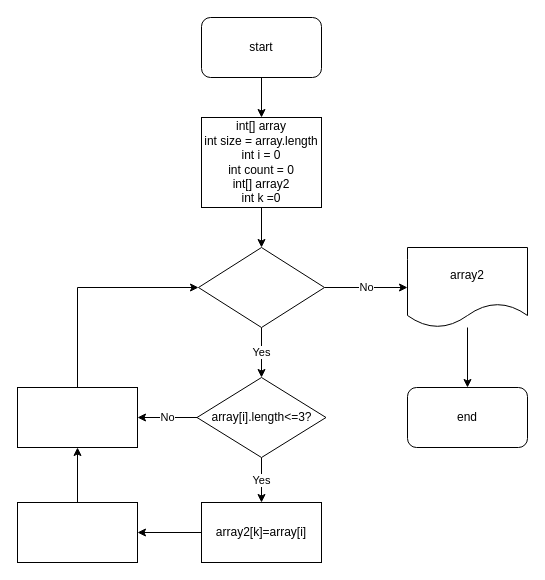
Image size: 545x580. Some labels were removed from this diagram. The shapes that lost their labels are listed below. From the top down, each one's centre as x and y in pixels, then its label:
At pixel 261 287: "i < size?".
At pixel 77 417: "i++".
At pixel 77 532: "k++".
